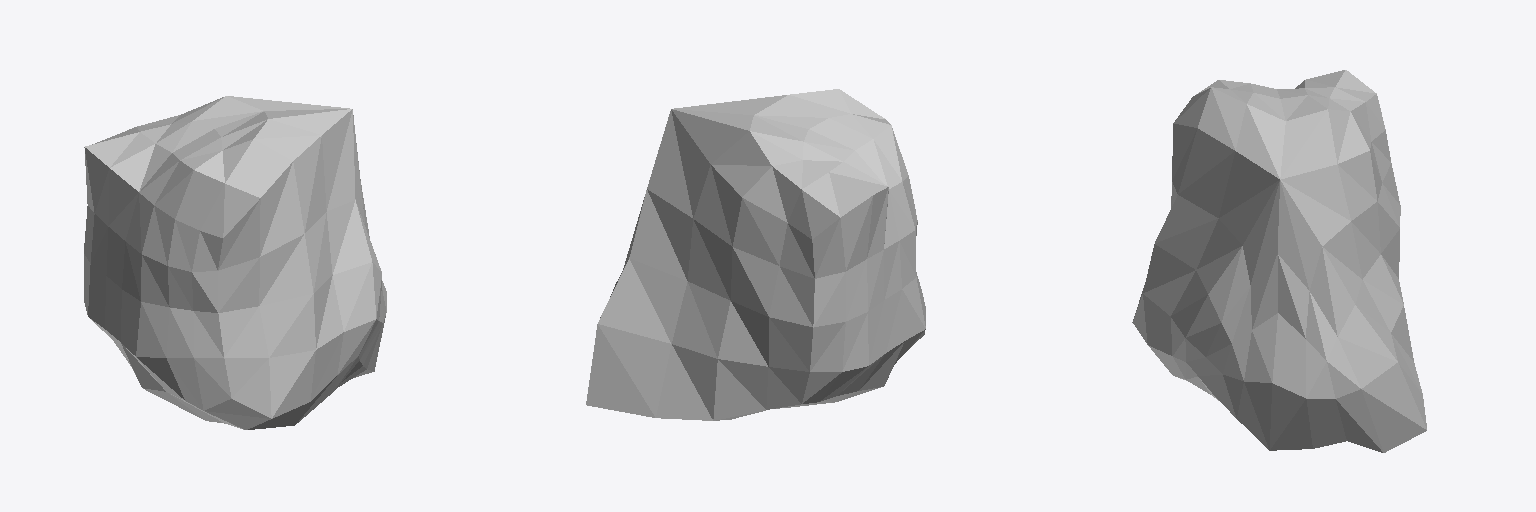
File: Asteroid5.obj
3 renders of one model, left to right at view 1: azimuth 30°, elevation 25°; view 2: azimuth 150°, elevation 25°; view 3: azimuth 270°, elevation 25°, orthographic.
Parts seen in each view (by area): view 1: rock.005; view 2: rock.005; view 3: rock.005.
Part boxes in pixels (x1,y1,x2,y2): rock.005: (84,96,386,429); rock.005: (586,89,925,420); rock.005: (1132,70,1426,452).
Bounding box in the file's own units: 1.15 × 1.2 × 1.06.